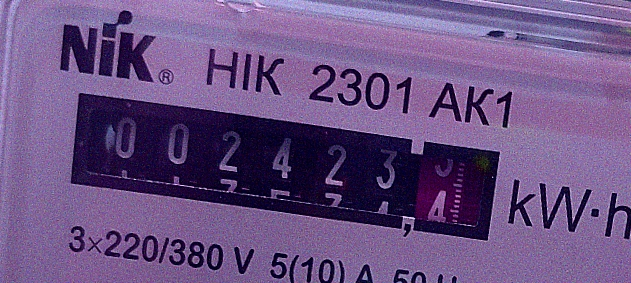0: (109, 111, 142, 163), (162, 120, 193, 168)
2: (213, 126, 245, 175), (320, 141, 350, 189)
3: (371, 145, 401, 193), (431, 154, 455, 180)
4: (267, 134, 296, 182), (422, 184, 452, 225)
screen: (52, 76, 515, 260)
